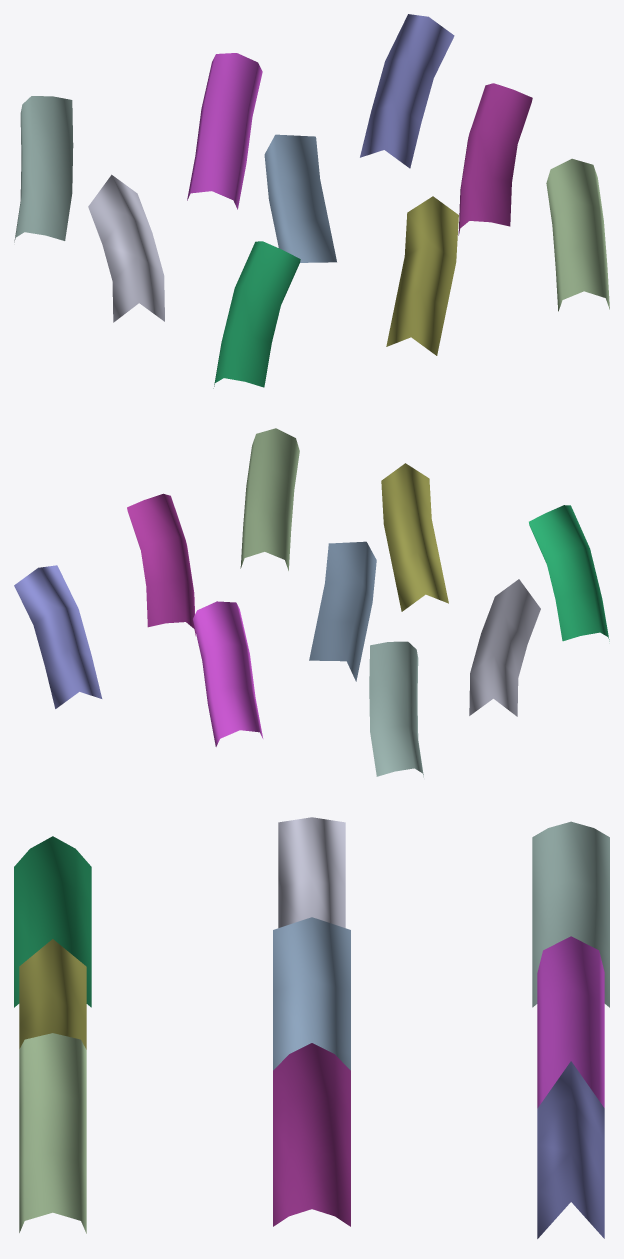
The model's file is LineMats_2_PolyLineTest_2023-06-04-21-23-00.gltf.
3 views of the same model, one above another, from view 1: azimuth 30°, elevation 25°; view 2: azimuth 150°, elevation 25°; view 3: azimuth 270°, elevation 25° (orthographic). The views are drawn at different scales.
Bounding box in the file's own units: 525 × 163 × 460.
